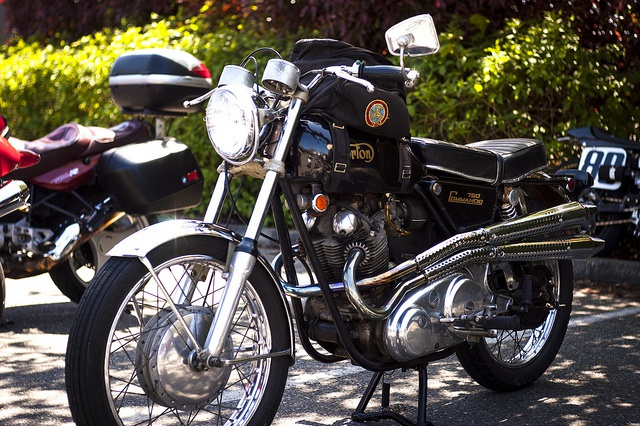non-vehicle: (62, 11, 607, 421), (0, 110, 211, 313), (555, 122, 640, 258)
